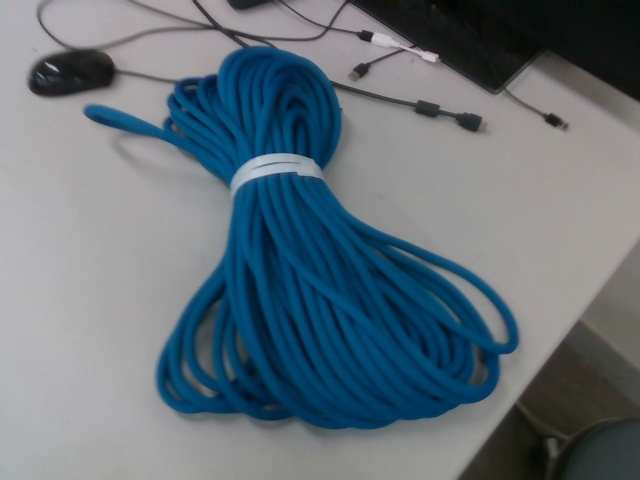rope: (79, 42, 527, 436)
